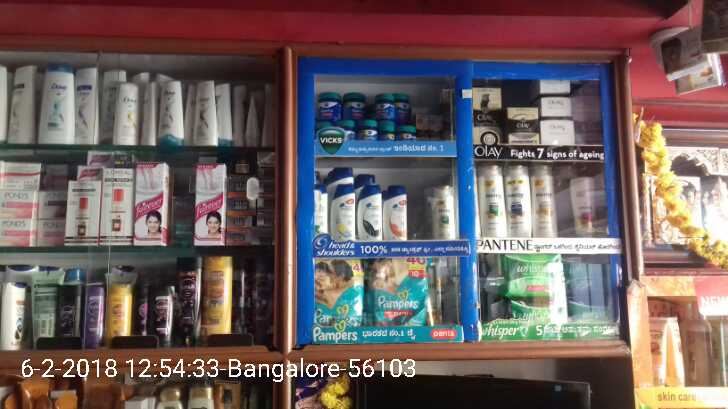beauty: (528, 163, 559, 237), (478, 165, 506, 240), (503, 166, 532, 237), (382, 184, 409, 239), (359, 186, 384, 240), (333, 184, 356, 241), (505, 106, 541, 142), (471, 111, 505, 149), (434, 179, 454, 238)
pharmacy: (477, 248, 570, 301), (306, 254, 368, 329), (369, 259, 426, 329), (313, 91, 345, 129), (342, 89, 369, 120), (371, 95, 397, 122), (394, 92, 412, 124)
